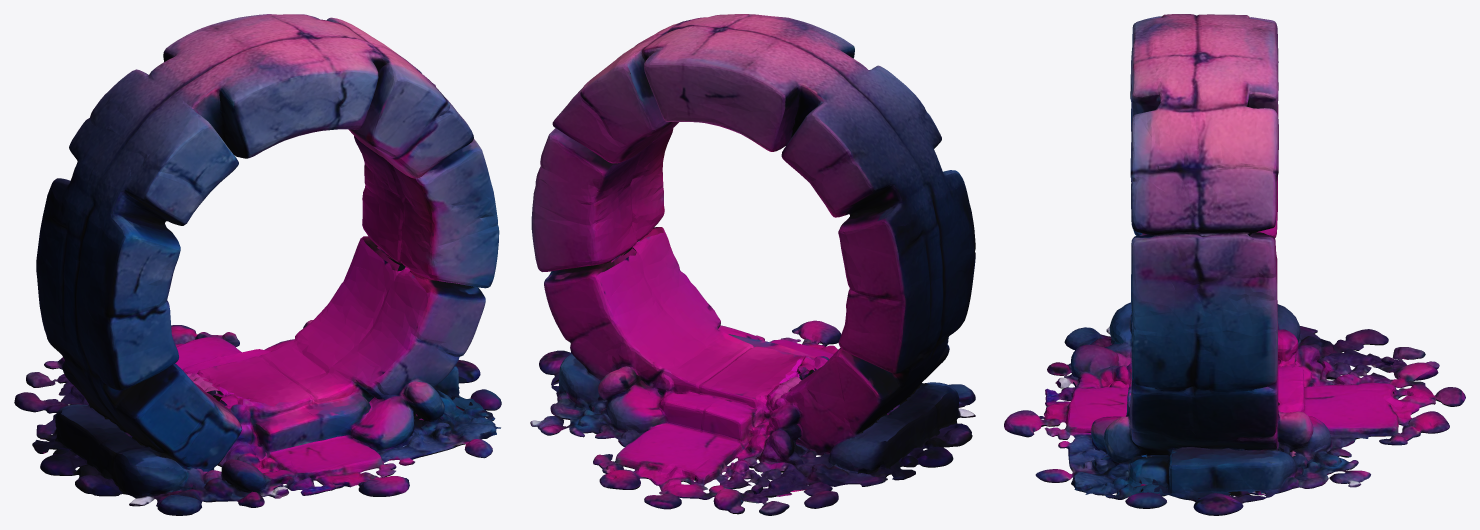
The model's file is ring-fragment-west-generated-2026-04-20T00-06-05-730Z.high.glb.
3 renders of one model, left to right at view 1: azimuth 30°, elevation 25°; view 2: azimuth 150°, elevation 25°; view 3: azimuth 270°, elevation 25°, orthographic. The views are drawn at different scales.
Visible parts, largest first — view 1: temp_mesh.ply; view 2: temp_mesh.ply; view 3: temp_mesh.ply.
Boxes of the visible parts, x1,y1,x2,y2 form: temp_mesh.ply: (14,14,501,515); temp_mesh.ply: (530,14,975,515); temp_mesh.ply: (1004,14,1465,515).
Bounding box in the file's own units: 1.97 × 1.71 × 1.88.
Materials: 1 (1 with a texture image).
